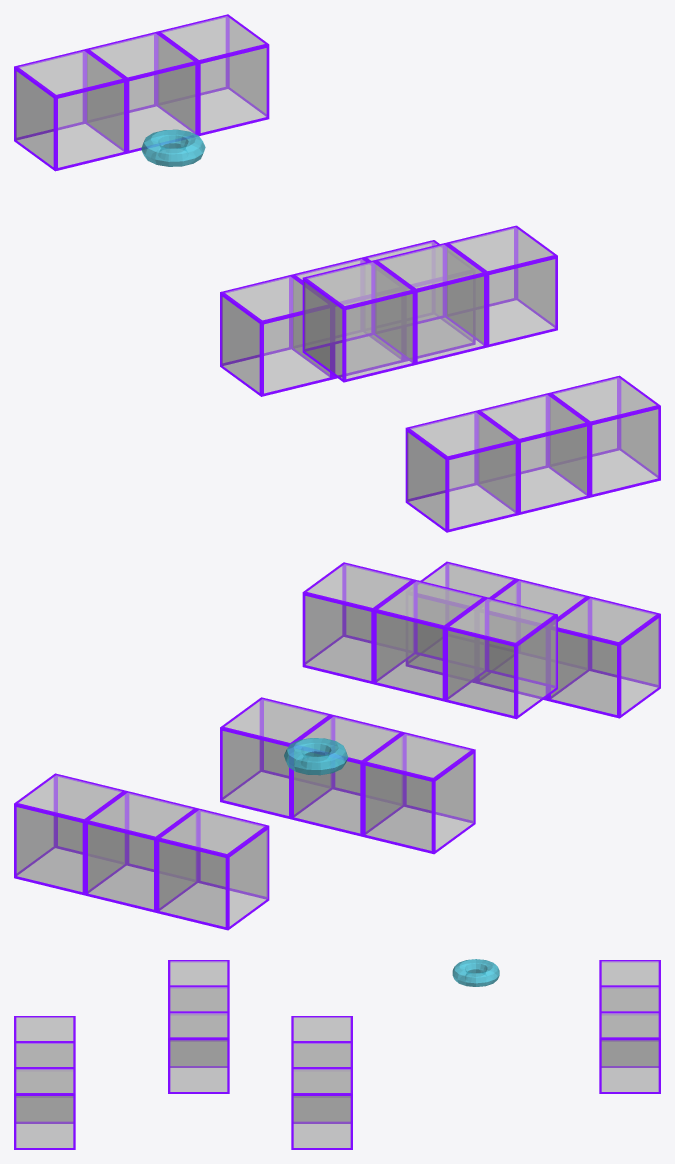
The model's file is (3)E Wall.fbx.
The picture shows the model from 3 angles, top to bottom: view 1: azimuth 30°, elevation 25°; view 2: azimuth 150°, elevation 25°; view 3: azimuth 270°, elevation 25°; orthographic projection. The views are drawn at different scales.
Visible parts, largest first — view 1: Wall.006, Wall.009, Wall.012, Wall.001, Wall.010, Wall.011, Wall.008, Wall.007, Wall.014, Wall.013, Wall.002, Wall.005 (+1 smaller); view 2: Wall.012, Wall.001, Wall.009, Wall.006, Wall.010, Wall.011, Wall.014, Wall.013, Wall.005, Wall.002, Wall.007, Wall.008 (+1 smaller); view 3: Wall.005, Wall.008, Wall.011, Wall.014, Wall.010, Wall.013, Wall.002, Wall.007, Wall.001, Wall.006, Wall.009, Wall.012 (+1 smaller).
Part boxes in pixels (x1=…): Wall.006: x1=405, y1=410, x2=518, y2=532; Wall.009: x1=302, y1=260, x2=414, y2=382; Wall.012: x1=14, y1=49, x2=126, y2=171; Wall.001: x1=220, y1=274, x2=332, y2=396; Wall.010: x1=374, y1=243, x2=486, y2=364; Wall.011: x1=445, y1=225, x2=557, y2=347; Wall.008: x1=548, y1=375, x2=660, y2=497; Wall.007: x1=477, y1=393, x2=589, y2=515; Wall.014: x1=156, y1=14, x2=269, y2=135; Wall.013: x1=85, y1=31, x2=197, y2=153; Wall.002: x1=291, y1=257, x2=403, y2=379; Wall.005: x1=363, y1=240, x2=475, y2=361; Wall.012: x1=156, y1=808, x2=269, y2=930; Wall.001: x1=363, y1=732, x2=475, y2=854; Wall.009: x1=445, y1=597, x2=557, y2=719; Wall.006: x1=548, y1=596, x2=660, y2=718; Wall.010: x1=374, y1=579, x2=486, y2=701; Wall.011: x1=302, y1=562, x2=414, y2=684; Wall.014: x1=14, y1=773, x2=126, y2=895; Wall.013: x1=85, y1=791, x2=197, y2=912; Wall.005: x1=220, y1=697, x2=332, y2=819; Wall.002: x1=291, y1=714, x2=403, y2=836; Wall.007: x1=477, y1=579, x2=589, y2=700; Wall.008: x1=405, y1=561, x2=517, y2=683; Wall.005: x1=291, y1=1068, x2=352, y2=1149; Wall.008: x1=14, y1=1068, x2=75, y2=1149; Wall.011: x1=168, y1=1012, x2=229, y2=1093; Wall.014: x1=599, y1=1012, x2=660, y2=1093; Wall.010: x1=168, y1=986, x2=229, y2=1067; Wall.013: x1=599, y1=986, x2=660, y2=1067; Wall.002: x1=291, y1=1042, x2=352, y2=1111; Wall.007: x1=14, y1=1042, x2=75, y2=1111; Wall.001: x1=291, y1=1016, x2=352, y2=1066; Wall.006: x1=14, y1=1016, x2=75, y2=1066; Wall.009: x1=168, y1=960, x2=229, y2=1010; Wall.012: x1=599, y1=960, x2=660, y2=1010.
Size of the model in its own units: 600 by 424 by 2100.
